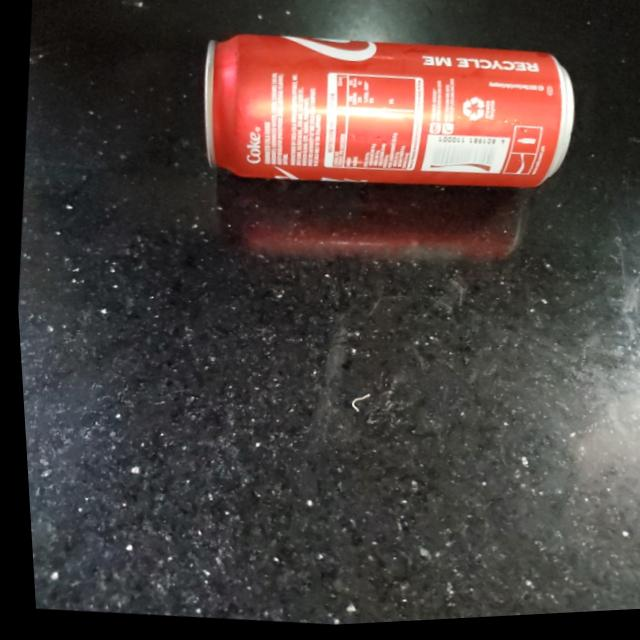coke: (196, 11, 587, 208)
